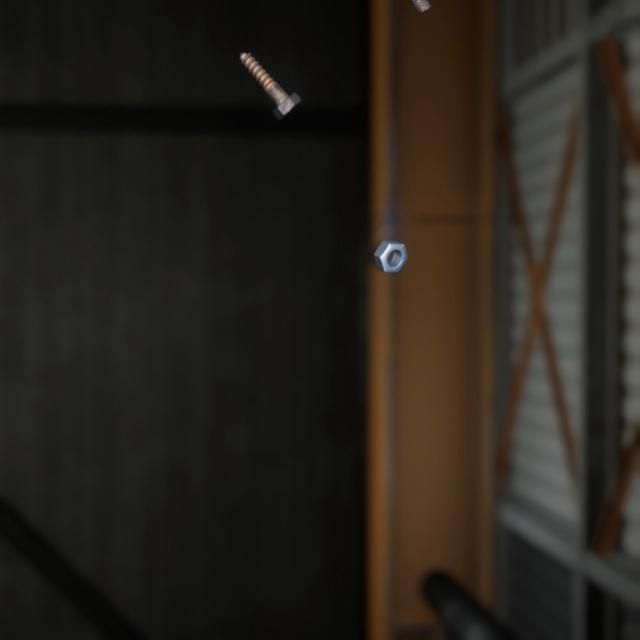bolt: (234, 36, 306, 112)
nut: (369, 220, 412, 261)
